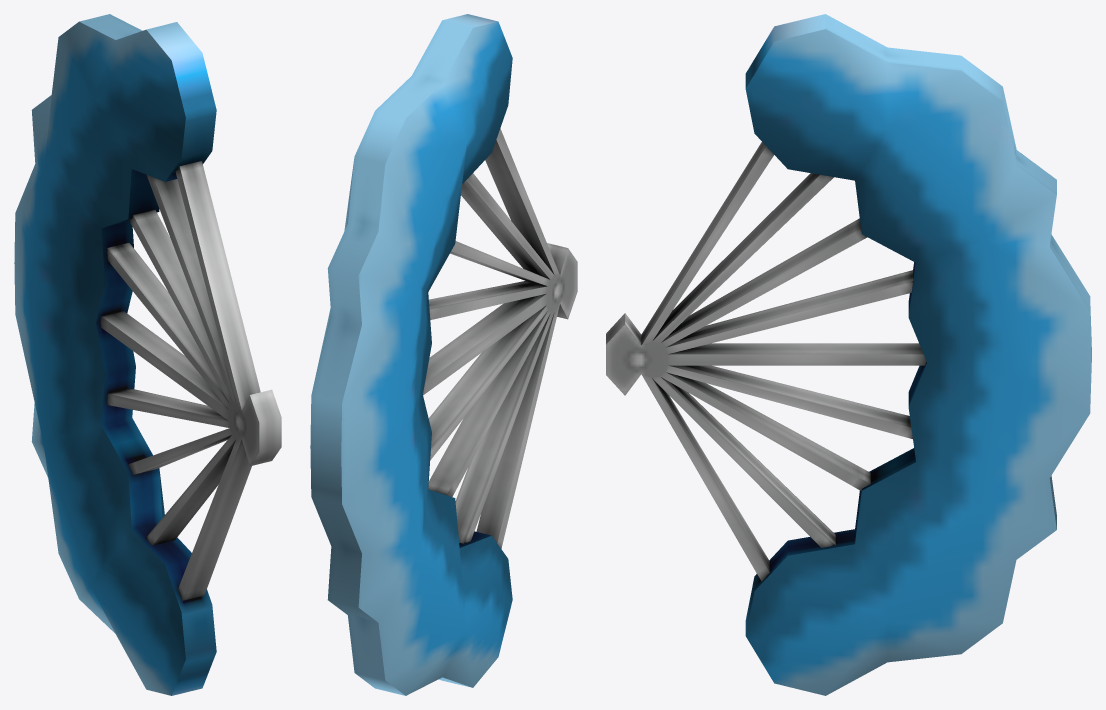
Rendered from club013.fbx.
3 views of the same model, side by side, from view 1: azimuth 30°, elevation 25°; view 2: azimuth 150°, elevation 25°; view 3: azimuth 270°, elevation 25° (orthographic).
Parts seen in each view (by area): view 1: club013; view 2: club013; view 3: club013.
Part boxes in pixels (x1,y1,x2,y2): club013: (14,14,281,695); club013: (310,14,577,695); club013: (606,14,1091,695).
Size of the model in its own units: 0.0529 by 0.4152 by 0.274.
